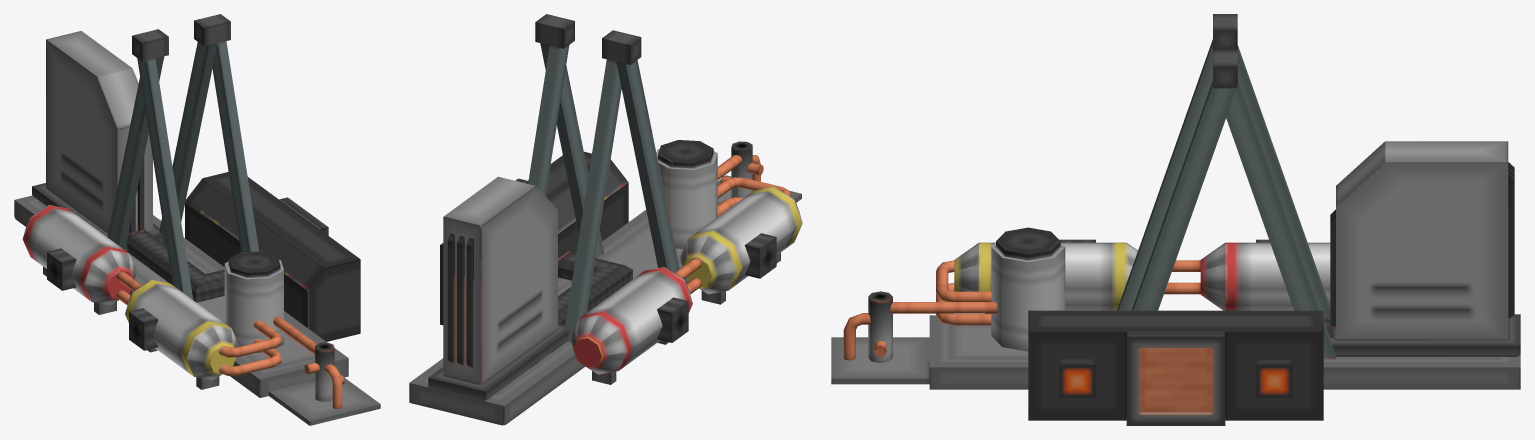
File: pumpjack_base.obj
The picture shows the model from 3 angles, left to right: view 1: azimuth 30°, elevation 25°; view 2: azimuth 150°, elevation 25°; view 3: azimuth 270°, elevation 25°; orthographic projection. The views are drawn at different scales.
Parts seen in each view (by area): view 1: Base; view 2: Base; view 3: Base.
Part boxes in pixels (x1,y1,x2,y2): Base: [14, 14, 380, 425]; Base: [409, 14, 802, 425]; Base: [831, 14, 1520, 425].
Bounding box in the file's own units: 3 × 3.62 × 7.
